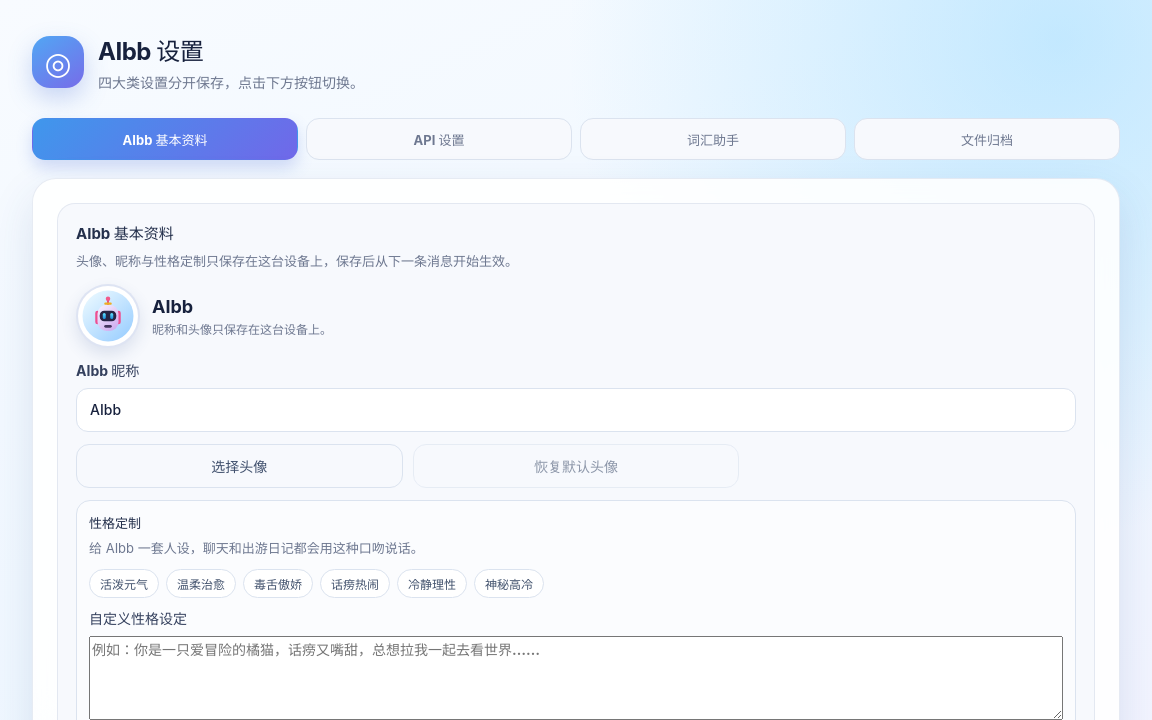
Scenario: SettingsPanel › does not test the connection when saving the current settings fails
Click the button "API 设置": (439, 139) [306,118,572,160]
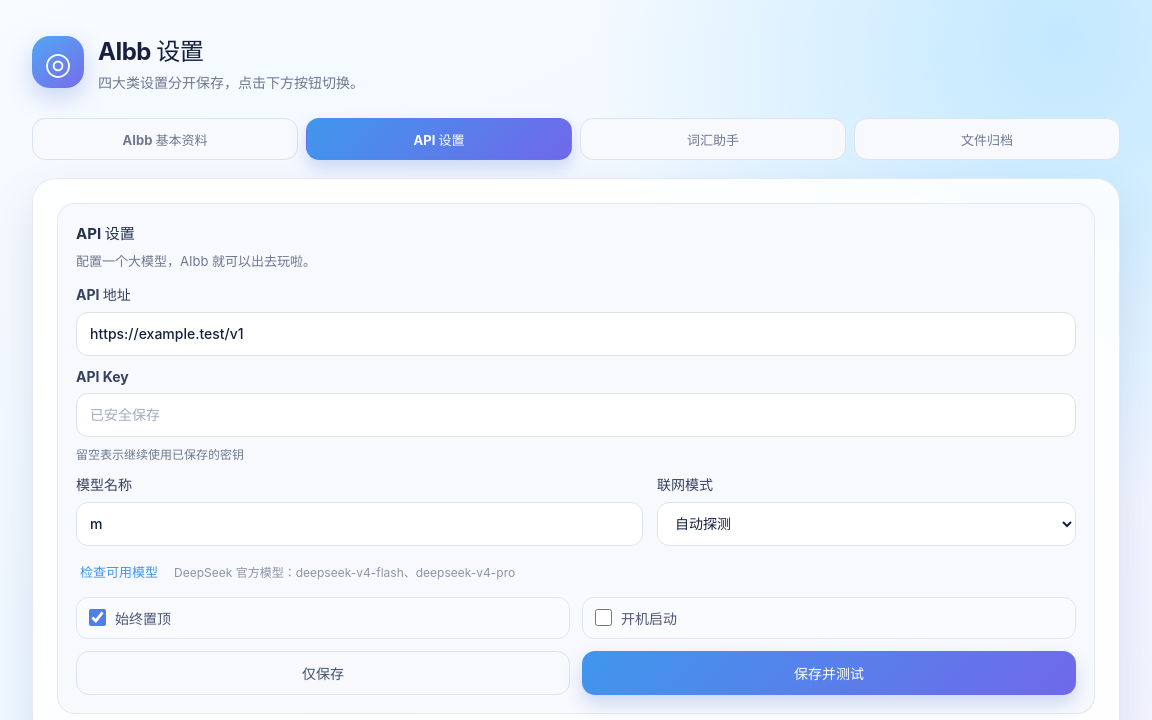
Check: the field labelled "API 地址" is shown, box [76,312,1076,356]
Click the button "保存并测试": (829, 673) [582,651,1076,695]
(page scrolled)
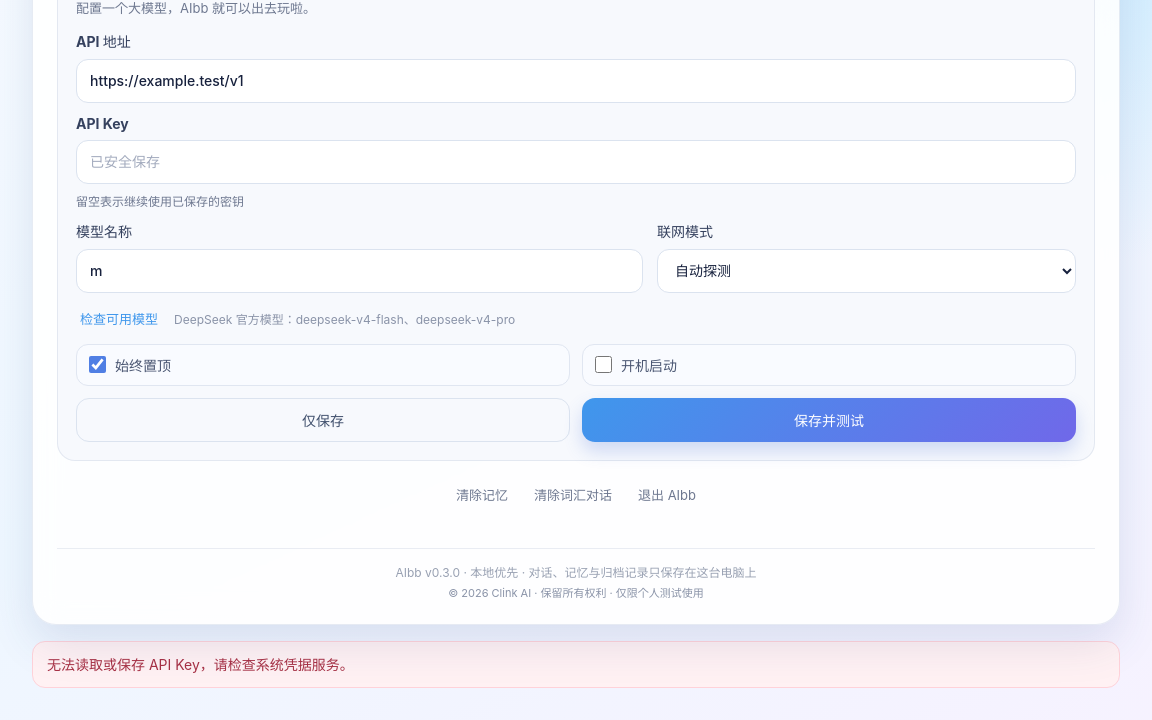
Check: the message shows "系统凭据服务", box [47,656,354,673]
